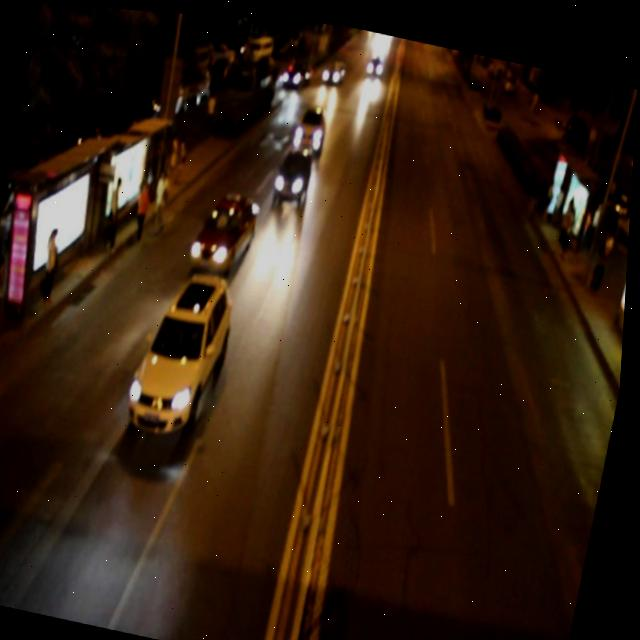car: (126, 259, 243, 443), (191, 181, 263, 278), (272, 138, 316, 205), (292, 98, 331, 154)
van: (0, 375, 29, 603)
